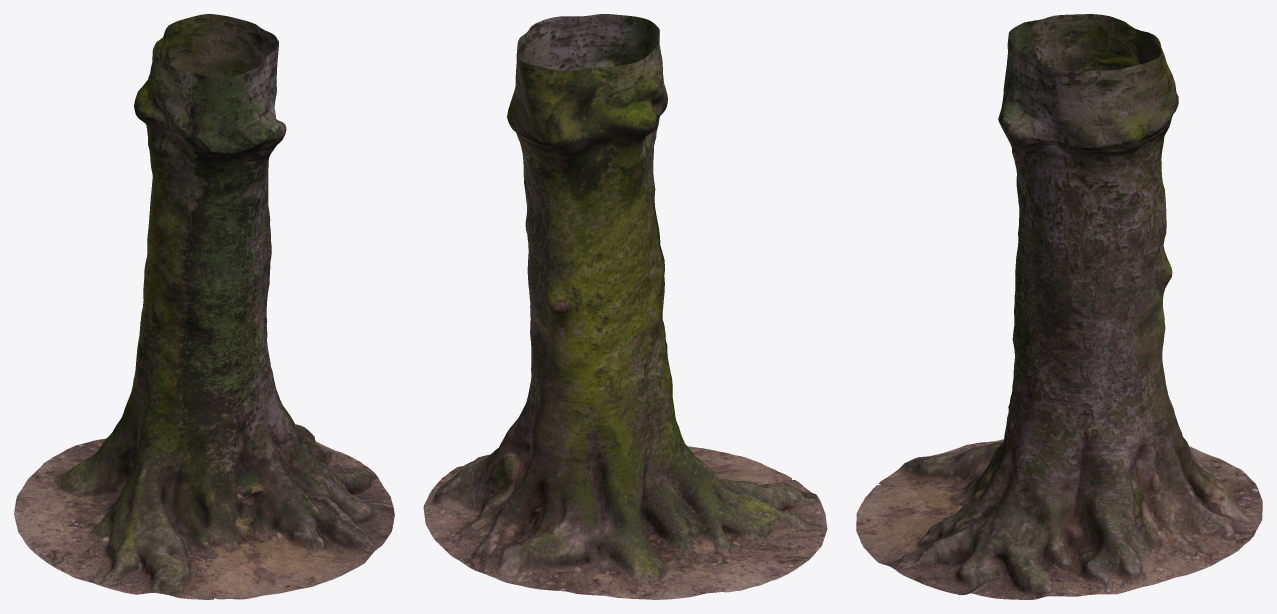
The model's file is tree_trunk_002.fbx.
3 views of the same model, side by side, from view 1: azimuth 30°, elevation 25°; view 2: azimuth 150°, elevation 25°; view 3: azimuth 270°, elevation 25° (orthographic). The views are drawn at different scales.
Parts seen in each view (by area): view 1: tree.trunk.002; view 2: tree.trunk.002; view 3: tree.trunk.002.
Part boxes in pixels (<box>): tree.trunk.002: <box>14,14,394,599</box>; tree.trunk.002: <box>423,14,827,599</box>; tree.trunk.002: <box>856,14,1262,599</box>.
Bounding box in the file's own units: 208 × 278 × 208.
Materials: 1 (1 with a texture image).
